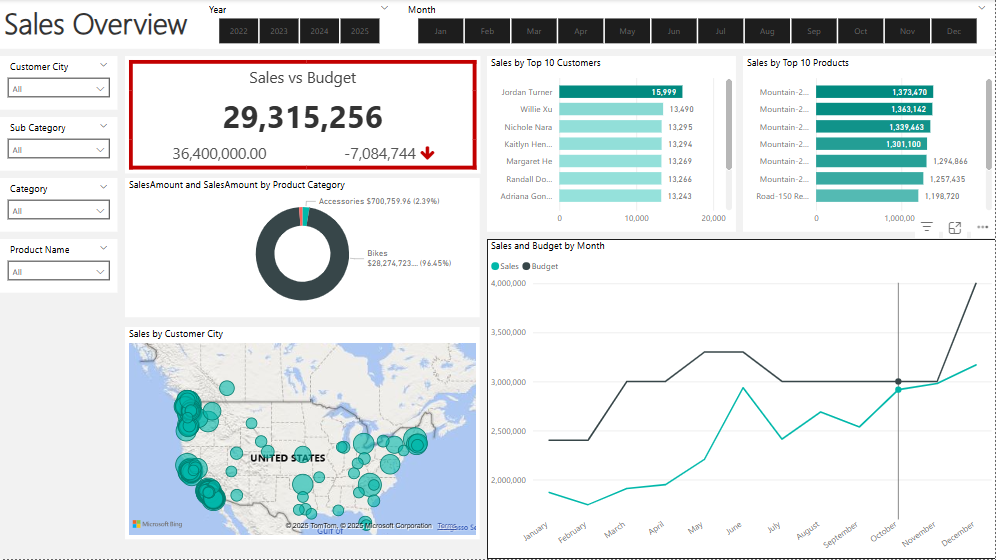

This screenshot's page, from the dashboard's own definition file:
{"tool":"powerbi","page":{"name":"Sales Overview","canvas":[1280,720],"ordinal":0},"visuals":[{"type":"textbox","box":[0,0,1280,64],"z":0},{"type":"slicer","fields":{"Values":["DIM_Calendar.Year"]},"box":[256,0,256,64],"z":1000},{"type":"slicer","fields":{"Values":["DIM_Calendar.MonthShort"]},"box":[512,0,768,64],"z":2000},{"type":"slicer","fields":{"Values":["DIM_Customers.Customer City"]},"box":[0,73,150.5,69.3],"z":3000},{"type":"slicer","fields":{"Values":["DIM_Products.Product Category"]},"box":[0,229.9,150.5,69.3],"z":4000},{"type":"slicer","fields":{"Values":["DIM_Products.Product Name"]},"box":[0,308.4,150.5,69.3],"z":5000},{"type":"slicer","fields":{"Values":["DIM_Products.Sub Category"]},"box":[0,151.4,150.5,69.3],"z":6000},{"type":"barChart","title":"Sales by Top 10 Products","fields":{"Category":["DIM_Products.Product Name"],"Y":["Analysis Metrics.Sales"]},"box":[955.3,73.3,325.3,226.3],"z":7000},{"type":"lineChart","fields":{"Category":["DIM_Calendar.Month"],"Y":["Analysis Metrics.Sales","Analysis Metrics.Budget"]},"box":[626.4,308.9,653.6,410.5],"z":8000},{"type":"barChart","title":"Sales by Top 10 Customers","fields":{"Category":["DIM_Customers.Full Name"],"Y":["Analysis Metrics.Sales"]},"box":[626.1,73.3,320.1,226.3],"z":9000},{"type":"donutChart","fields":{"Series":["DIM_Products.Product Category"],"Y":["Sum(FACT_InternetSales.SalesAmount)"]},"box":[160.2,230.3,456.2,178.8],"z":10000},{"type":"map","fields":{"Category":["DIM_Customers.Customer City"],"Size":["Analysis Metrics.Sales"]},"box":[160.2,421.9,456.2,273.2],"z":12000},{"type":"BBED0A4D4D8D44CE93CF2DAFADEE466C","fields":{"actual":["Analysis Metrics.Sales"],"target2":["Analysis Metrics.Sales / Budget"],"target1":["Analysis Metrics.Budget"]},"box":[160.5,73.4,456.6,151.3],"z":13001}]}

Visuals, with their boxes in screenshot pixels (x1, y1, x2, y2), scaled from the page's 1280x720 canvas onto the 996x560 screenshot:
textbox: crop(0, 0, 995, 50)
slicer - DIM_Calendar.Year: crop(199, 0, 398, 50)
slicer - DIM_Calendar.MonthShort: crop(398, 0, 995, 50)
slicer - DIM_Customers.Customer City: crop(0, 57, 117, 111)
slicer - DIM_Products.Product Category: crop(0, 179, 117, 233)
slicer - DIM_Products.Product Name: crop(0, 240, 117, 294)
slicer - DIM_Products.Sub Category: crop(0, 118, 117, 172)
"Sales by Top 10 Products" barChart: crop(743, 57, 995, 233)
lineChart - DIM_Calendar.Month x Analysis Metrics.Sales: crop(487, 240, 995, 559)
"Sales by Top 10 Customers" barChart: crop(487, 57, 736, 233)
donutChart - DIM_Products.Product Category x Sum(FACT_InternetSales.SalesAmount): crop(125, 179, 480, 318)
map - DIM_Customers.Customer City x Analysis Metrics.Sales: crop(125, 328, 480, 541)
BBED0A4D4D8D44CE93CF2DAFADEE466C - Analysis Metrics.Sales x Analysis Metrics.Sales / Budget: crop(125, 57, 480, 175)
